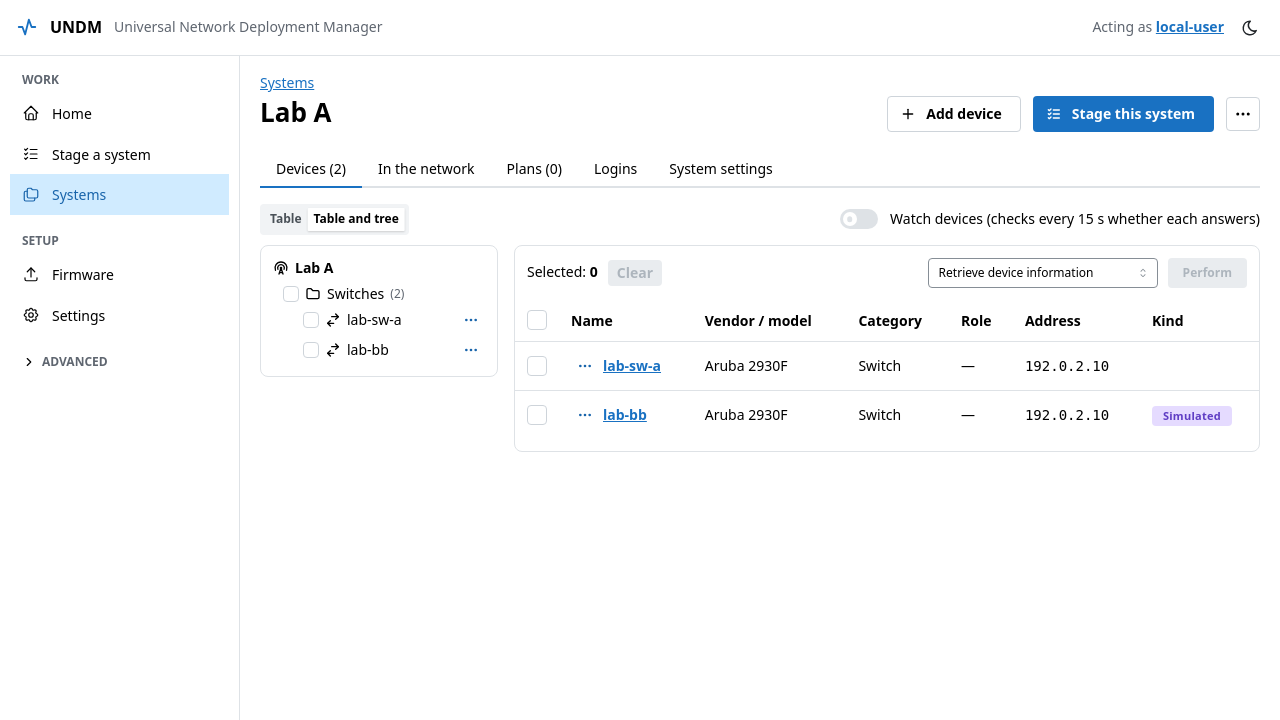
device menu, tree and watch (D-099) › watching devices shows a dot per device from the reachability check
Click the switch labelled "Watch devices (checks every 15 s whether each answers)" at (1050, 219), box [840, 209, 1260, 229]
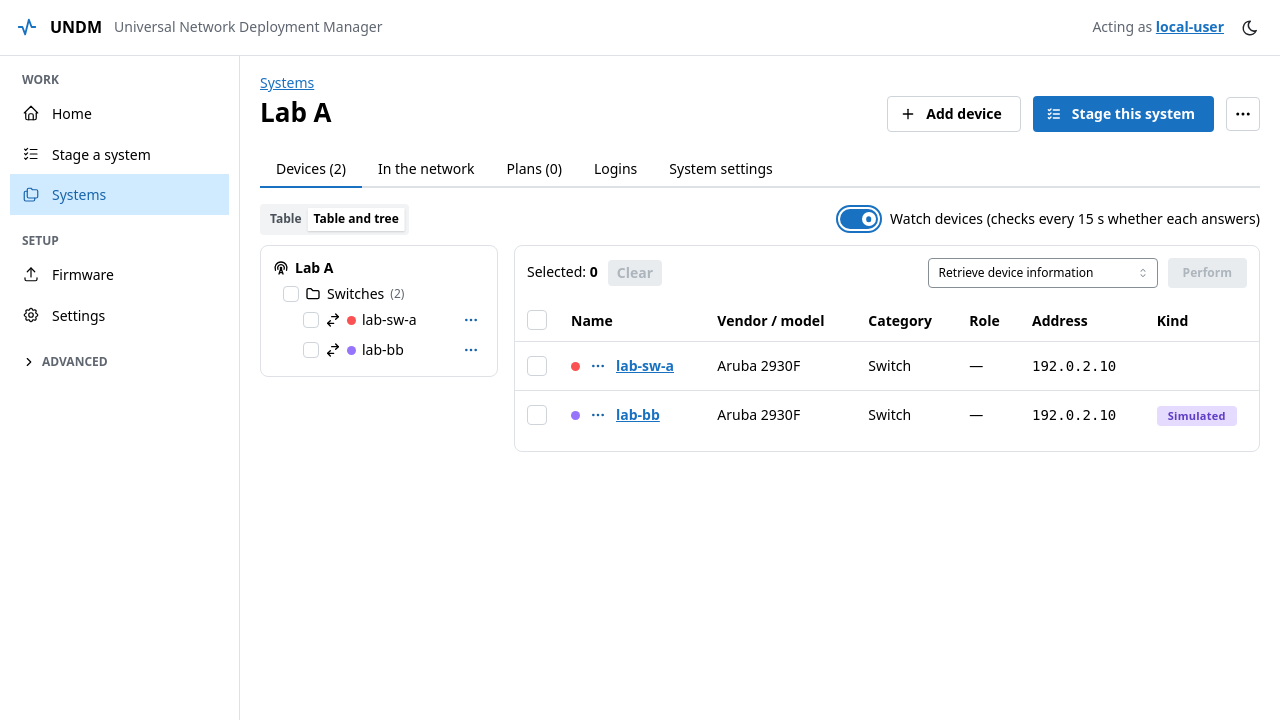
Result: the number of pictures named "No answer on its management port" is 2 at [347, 316, 356, 325]; [571, 362, 580, 371]
